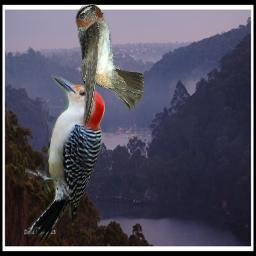Swallow: (75, 4, 144, 128)
Woodpecker: (25, 75, 105, 246)
